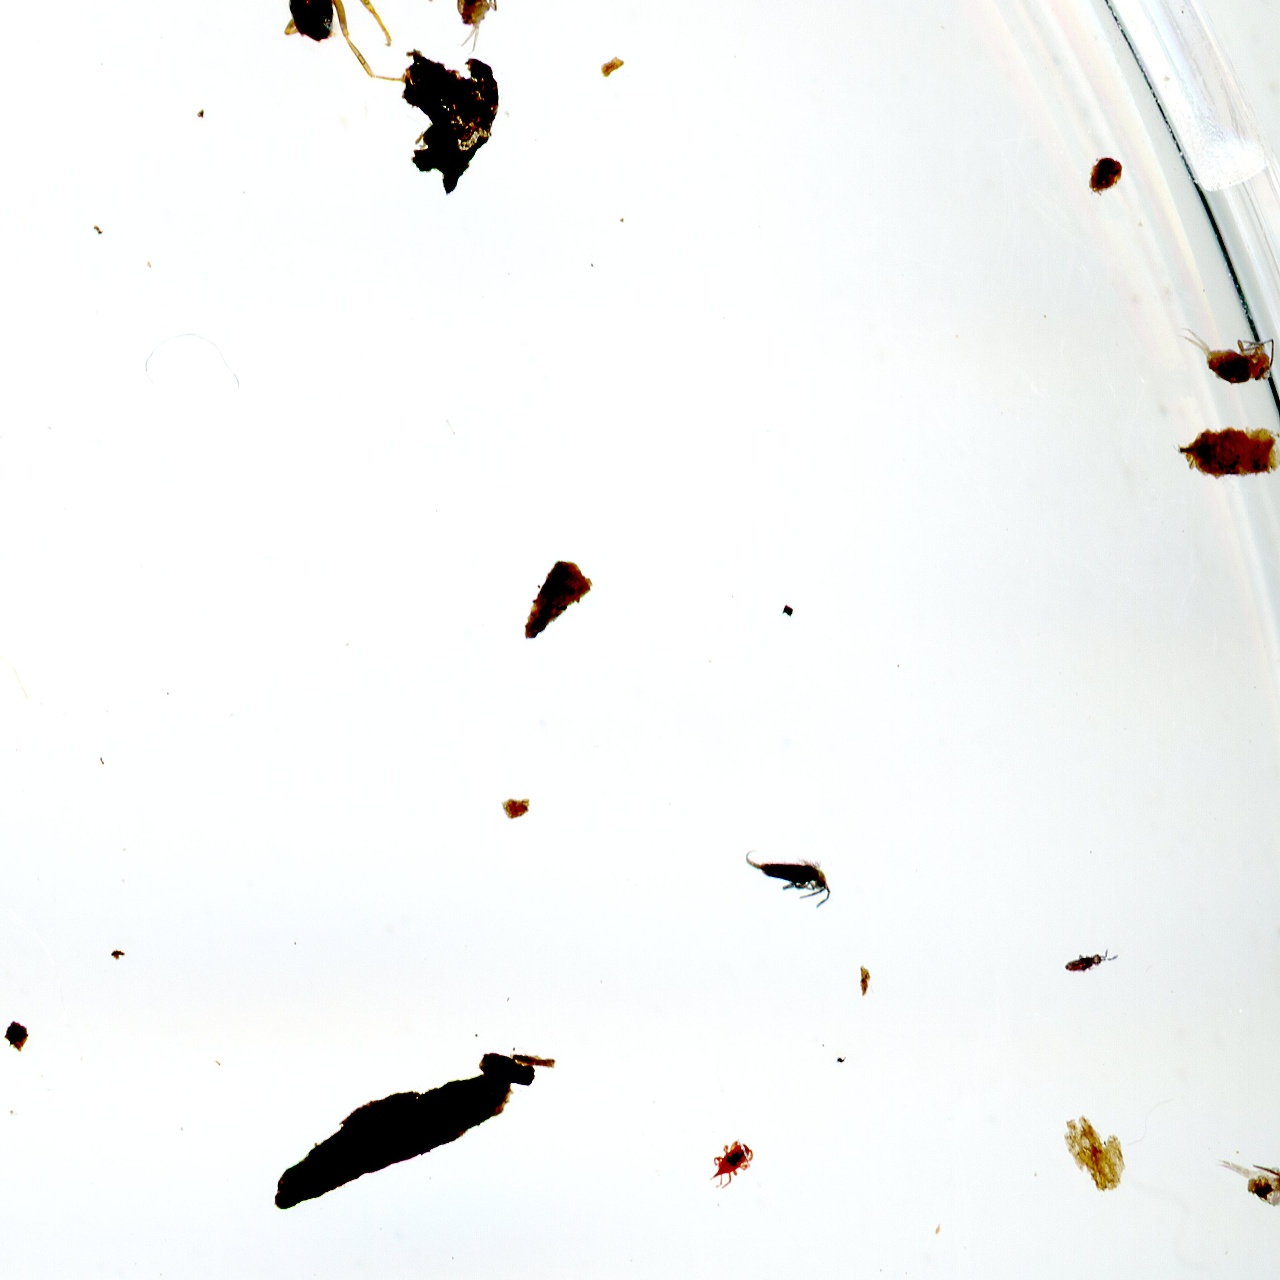arthropod: (280, 0, 438, 89), (1176, 320, 1276, 389), (743, 845, 835, 910), (695, 1130, 767, 1201), (1212, 1149, 1280, 1208), (445, 0, 506, 59), (1061, 942, 1119, 980)
